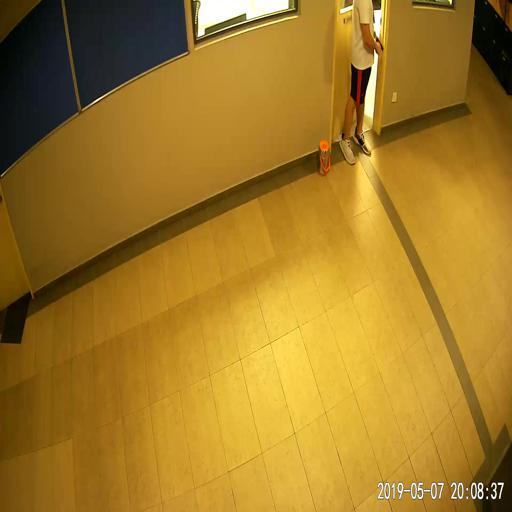Handgun: (373, 33, 383, 55)
